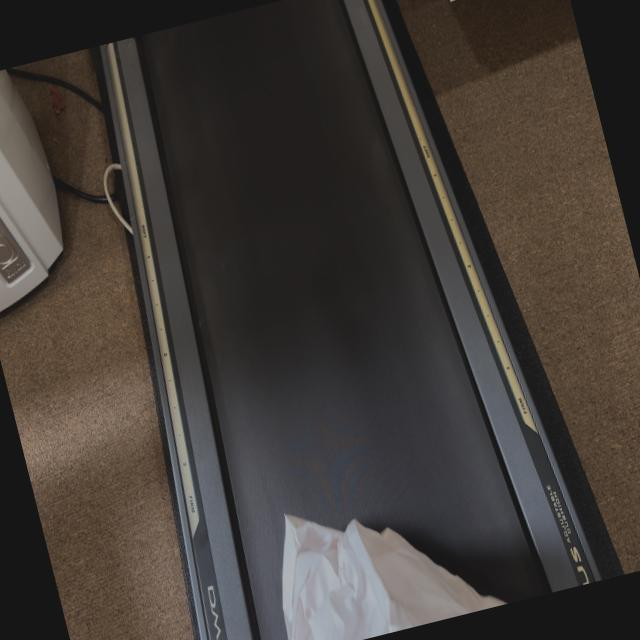Recycle: (254, 463, 506, 640)
